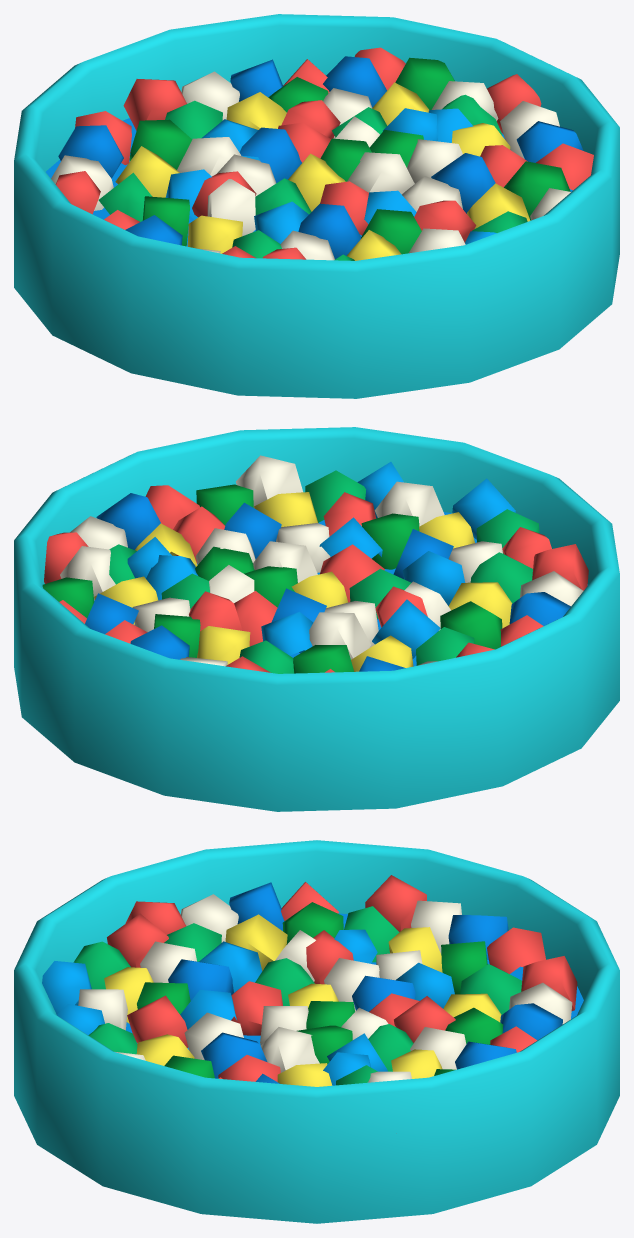
File: for_kids_003.glb
3 views of the same model, one above another, from view 1: azimuth 30°, elevation 25°; view 2: azimuth 150°, elevation 25°; view 3: azimuth 270°, elevation 25° (orthographic).
Parts seen in each view (by area): view 1: for_kids_003; view 2: for_kids_003; view 3: for_kids_003.
Boxes of the visible parts, <box> form: for_kids_003: <box>14,14,619,398</box>; for_kids_003: <box>14,427,619,811</box>; for_kids_003: <box>14,840,619,1223</box>.
Size of the model in its own units: 2.62 by 0.6312 by 2.62.
Materials: 1 (1 with a texture image).
